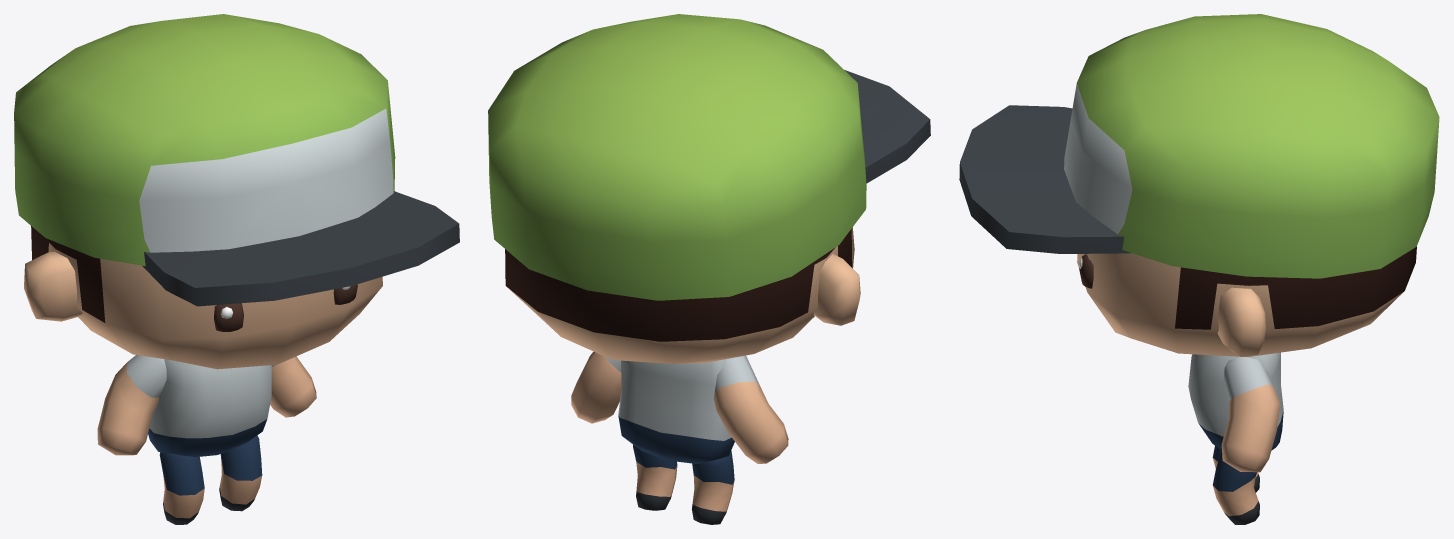
File: idle_0008.obj
3 renders of one model, left to right at view 1: azimuth 30°, elevation 25°; view 2: azimuth 150°, elevation 25°; view 3: azimuth 270°, elevation 25°, orthographic.
Visible parts, largest first — view 1: Object_41, Object_42, Object_36, Object_44, Object_38; view 2: Object_41, Object_36, Object_44, Object_42; view 3: Object_41, Object_36, Object_42, Object_44.
Part boxes in pixels (left/top/right/bottom): Object_41: left=14, top=14, right=395, bottom=266; Object_42: left=139, top=108, right=459, bottom=306; Object_36: left=24, top=226, right=382, bottom=369; Object_44: left=97, top=355, right=316, bottom=524; Object_38: left=214, top=284, right=357, bottom=331; Object_41: left=488, top=14, right=866, bottom=300; Object_36: left=505, top=227, right=860, bottom=363; Object_44: left=571, top=351, right=788, bottom=524; Object_42: left=844, top=70, right=930, bottom=183; Object_41: left=1077, top=14, right=1439, bottom=278; Object_36: left=1077, top=246, right=1416, bottom=356; Object_42: left=959, top=83, right=1132, bottom=253; Object_44: left=1188, top=352, right=1283, bottom=524.
Bounding box in the file's own units: 0.9691 × 1.22 × 1.14.
